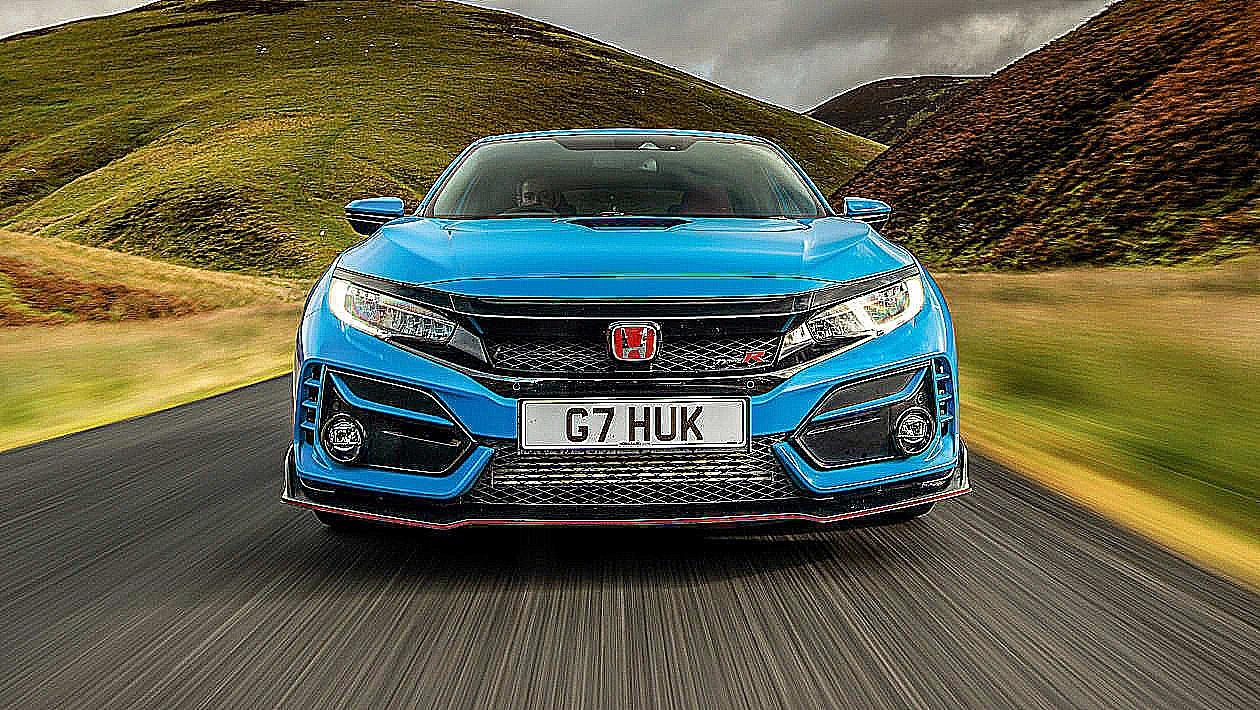Car hood: (333, 216, 919, 307)
Front bumper: (277, 306, 974, 532)
Headlight - -L-: (772, 261, 926, 372)
Headlight - -R-: (325, 262, 487, 372)
Side mirror - -L-: (837, 196, 894, 225)
Side mirror - -R-: (341, 198, 403, 243)
